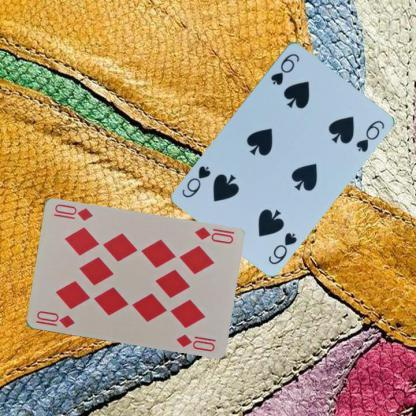10d: (32, 308, 76, 330), (192, 224, 234, 245)
6s: (268, 50, 301, 86), (266, 230, 298, 266)
